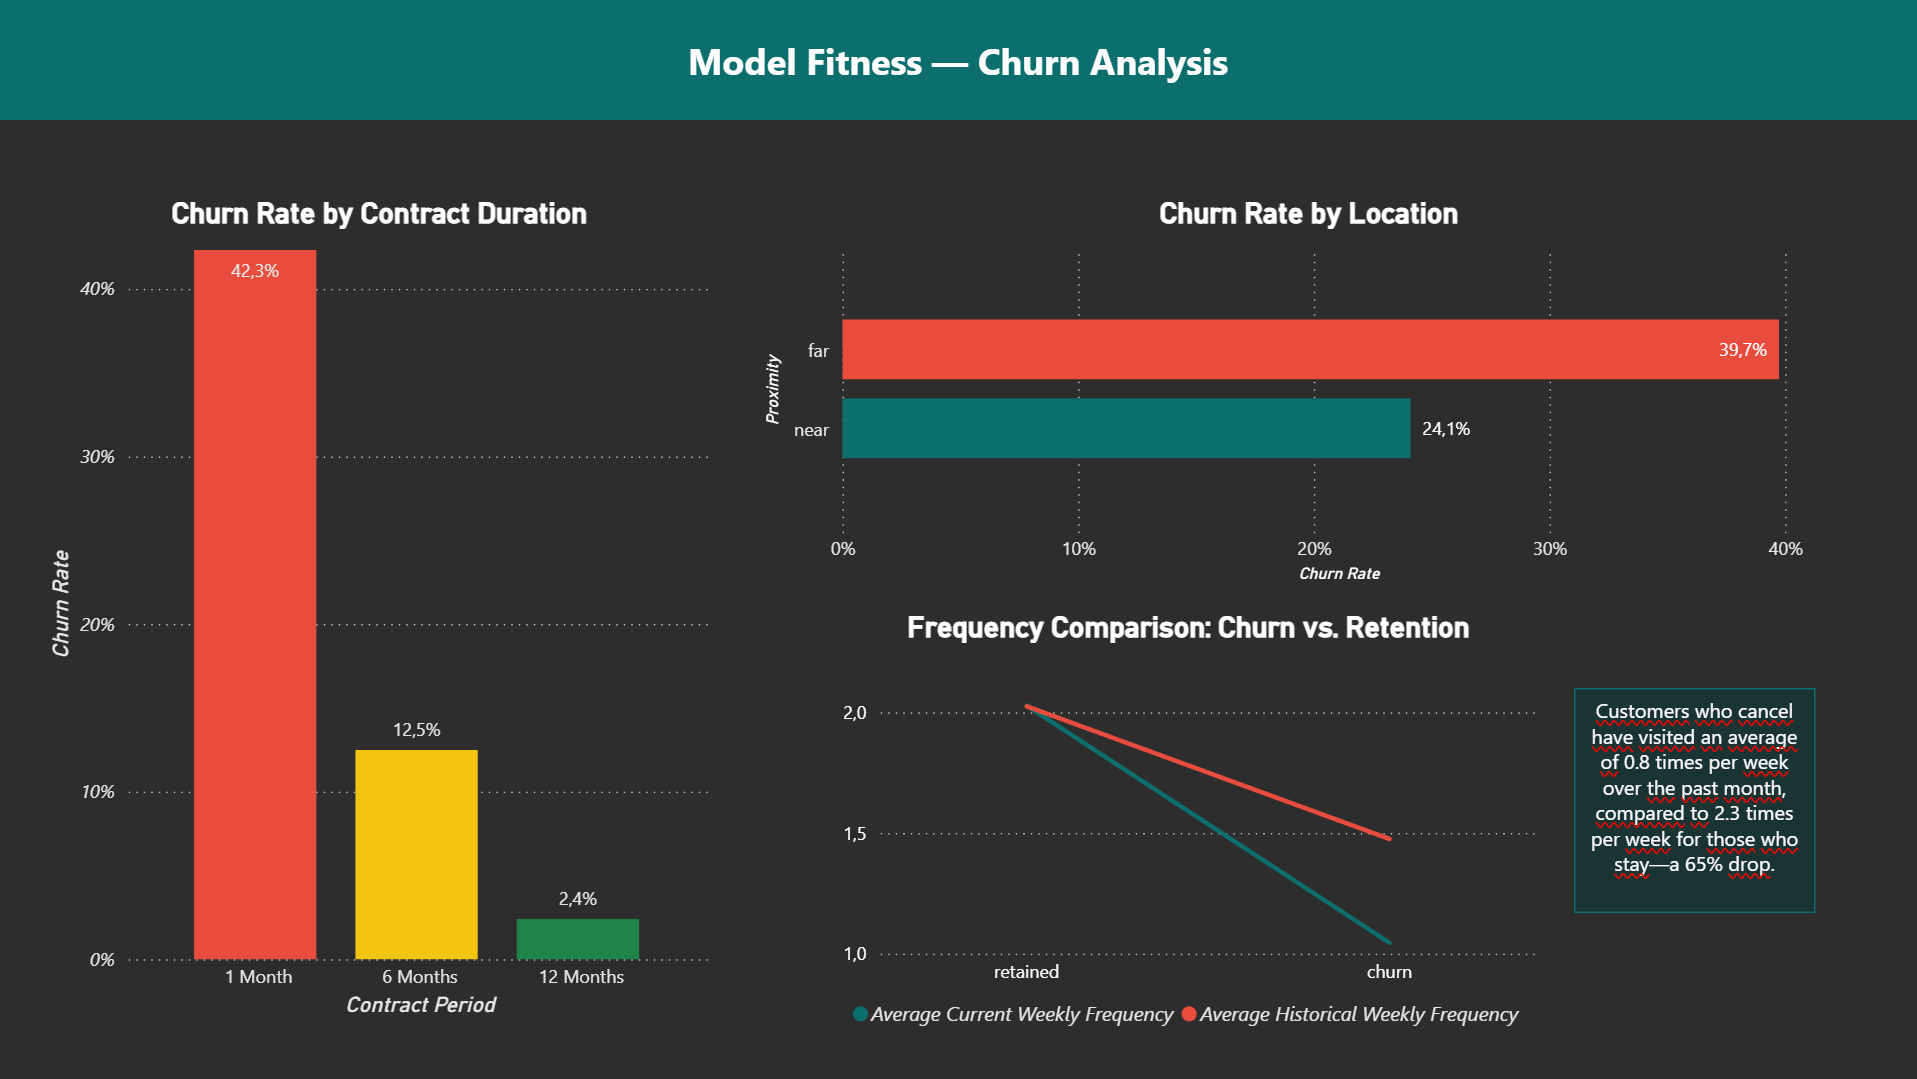

This screenshot's page, from the dashboard's own definition file:
{"tool":"powerbi","page":{"name":"Churn Analysis","canvas":[1280,720],"ordinal":2},"visuals":[{"type":"shape","box":[0,0,1280,80],"z":0},{"type":"columnChart","title":"Churn Rate by Contract Duration","fields":{"Y":["gym_churn.churn_rate"],"Category":["gym_churn.contract_type"]},"box":[28.4,130.8,451.3,551.8],"z":1000},{"type":"clusteredBarChart","title":"Churn Rate by Location","fields":{"Y":["gym_churn.churn_rate"],"Category":["gym_churn.proximity"]},"box":[506.2,130.8,736.2,262.3],"z":2000},{"type":"lineChart","title":"Frequency Comparison: Churn vs. Retention","fields":{"Category":["gym_churn.situation"],"Y":["Avg(gym_churn.avg_class_frequency_current_month)","Avg(gym_churn.avg_class_frequency_total)"]},"box":[557.7,406.9,471.5,288.5],"z":3000},{"type":"textbox","box":[1050.7,458.7,160.7,150],"z":4000}]}

Visuals, with their boxes in screenshot pixels (x1, y1, x2, y2), scaled from the page's 1280x720 canvas onto the 1917x1079 screenshot:
shape: bbox=(0, 0, 1916, 120)
"Churn Rate by Contract Duration" columnChart: bbox=(43, 196, 718, 1023)
"Churn Rate by Location" clusteredBarChart: bbox=(758, 196, 1861, 589)
"Frequency Comparison: Churn vs. Retention" lineChart: bbox=(835, 610, 1541, 1042)
textbox: bbox=(1574, 687, 1814, 912)
